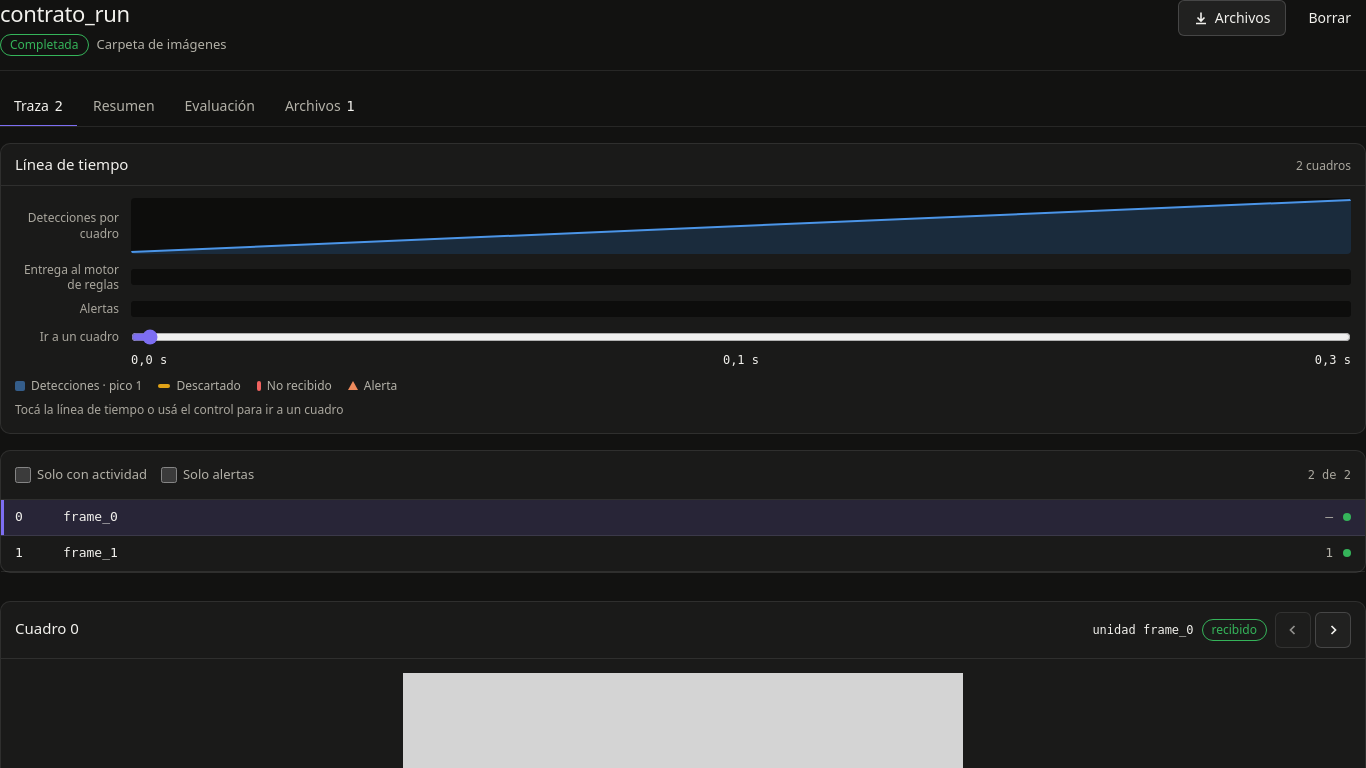
it: expone el inventario limitado del servicio anterior con descargas verificadas
What coordinates should you click on to do the following:
click the tab "Archivos 1"
I would click on:
 (320, 106)
Its box is [271, 86, 369, 126].
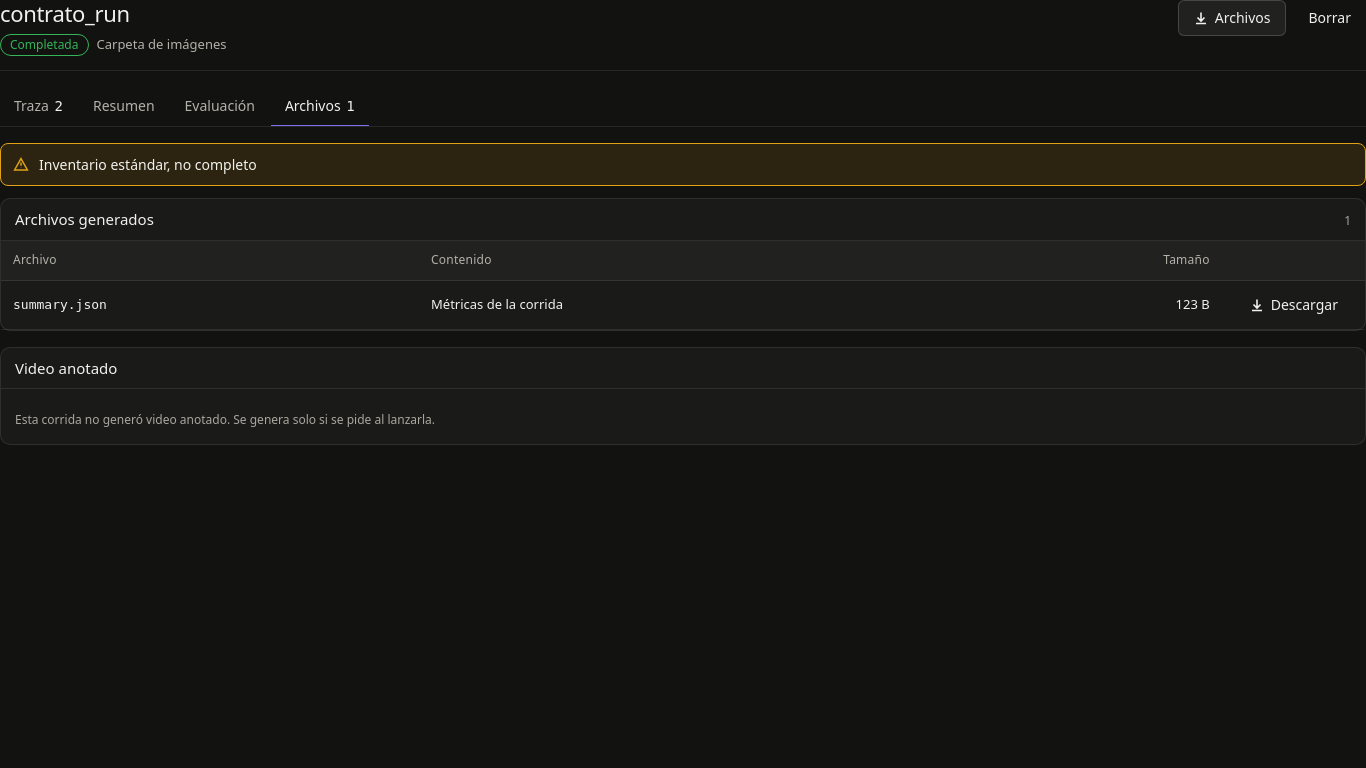
Expected: the text "Inventario estándar, no completo" is shown, [39, 154, 257, 174]
